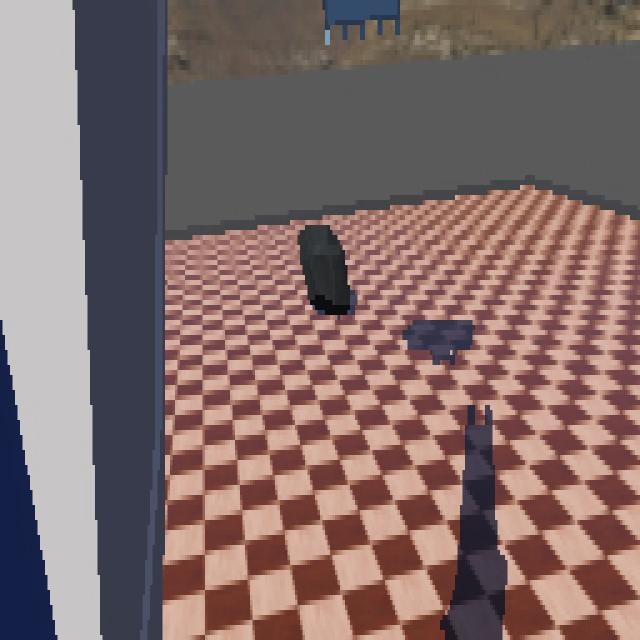rock: (298, 220, 353, 318)
